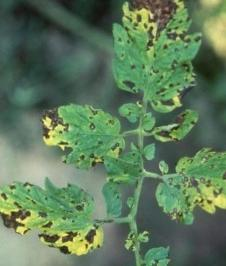Tomato Septoria leaf spot: (102, 0, 203, 110), (0, 180, 110, 257), (28, 104, 135, 167), (150, 144, 226, 230), (152, 108, 203, 149)
